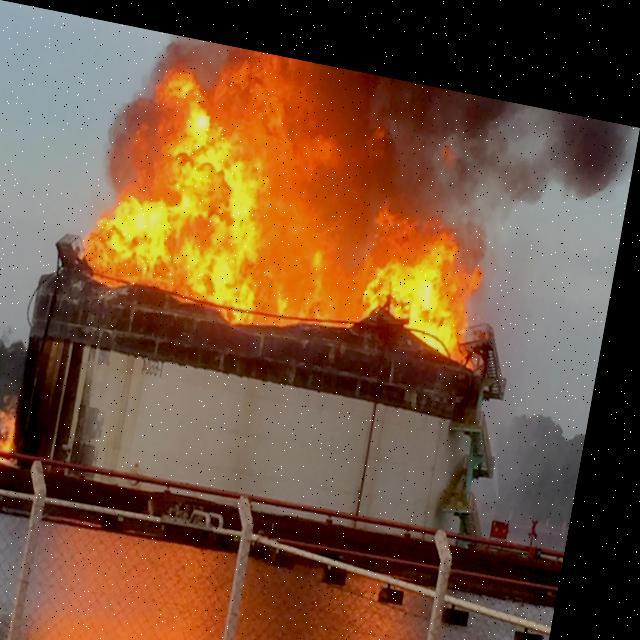Fire: (100, 62, 520, 352), (2, 397, 41, 460)
